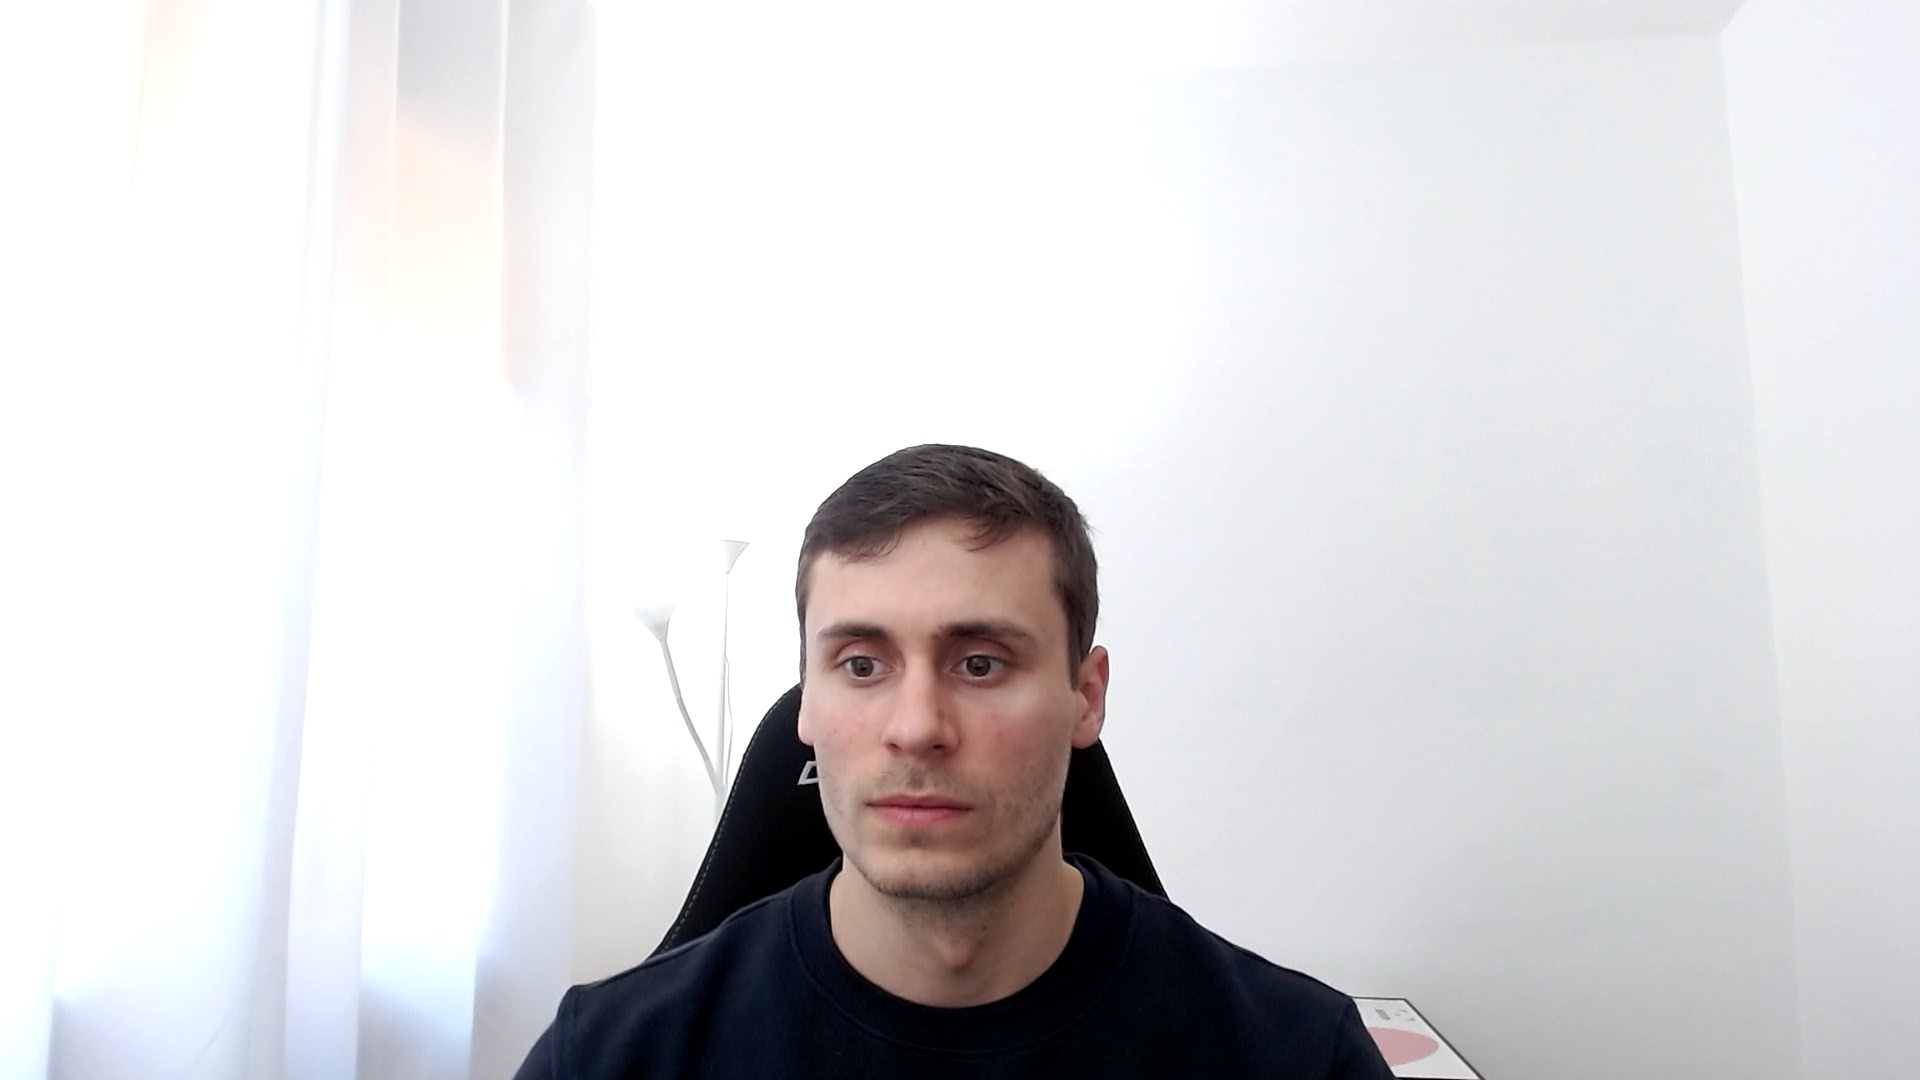No-mask: (795, 444, 1109, 897)
